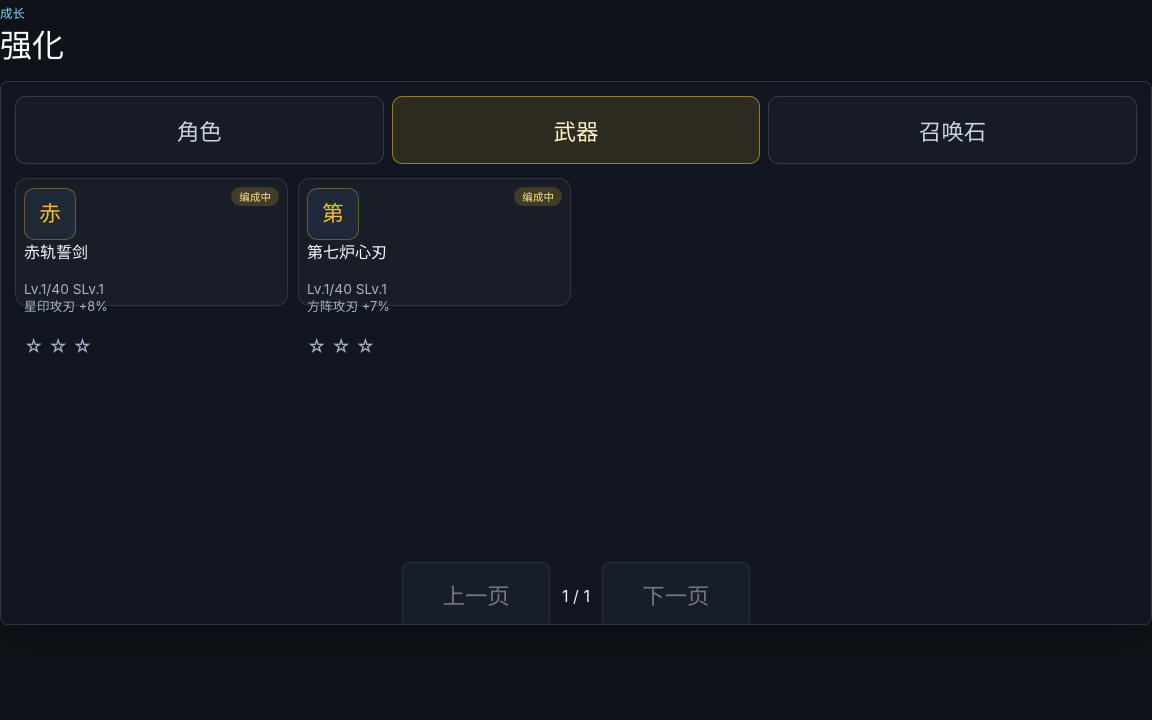
it: upgrade screen › opens action modal then skill upgrade modal with target select and preview
Step 1. Click the button with test id "weapon-card-weapon-red-rail-saber" → click(255, 197), box [15,178,288,306]
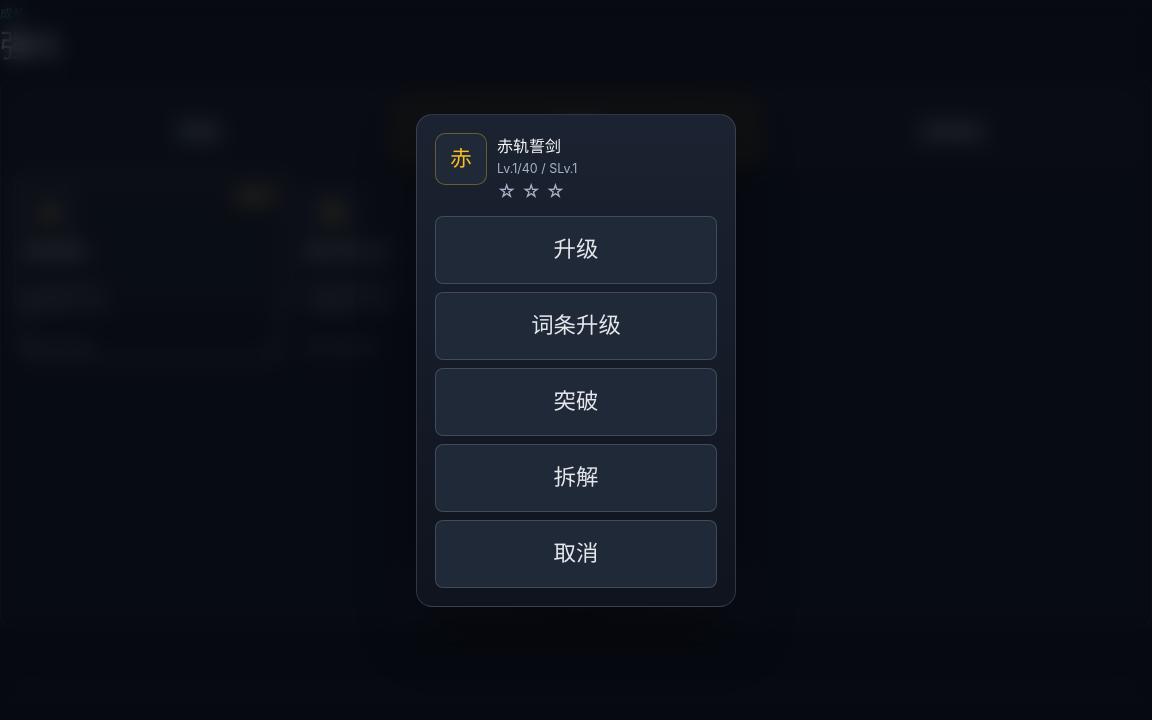
Expected: the element with test id "upgrade-action-modal" that starts with "赤轨誓剑" is shown
Step 2. Click the button with test id "action-词条升级" → click(576, 326), box [435,292,717,360]
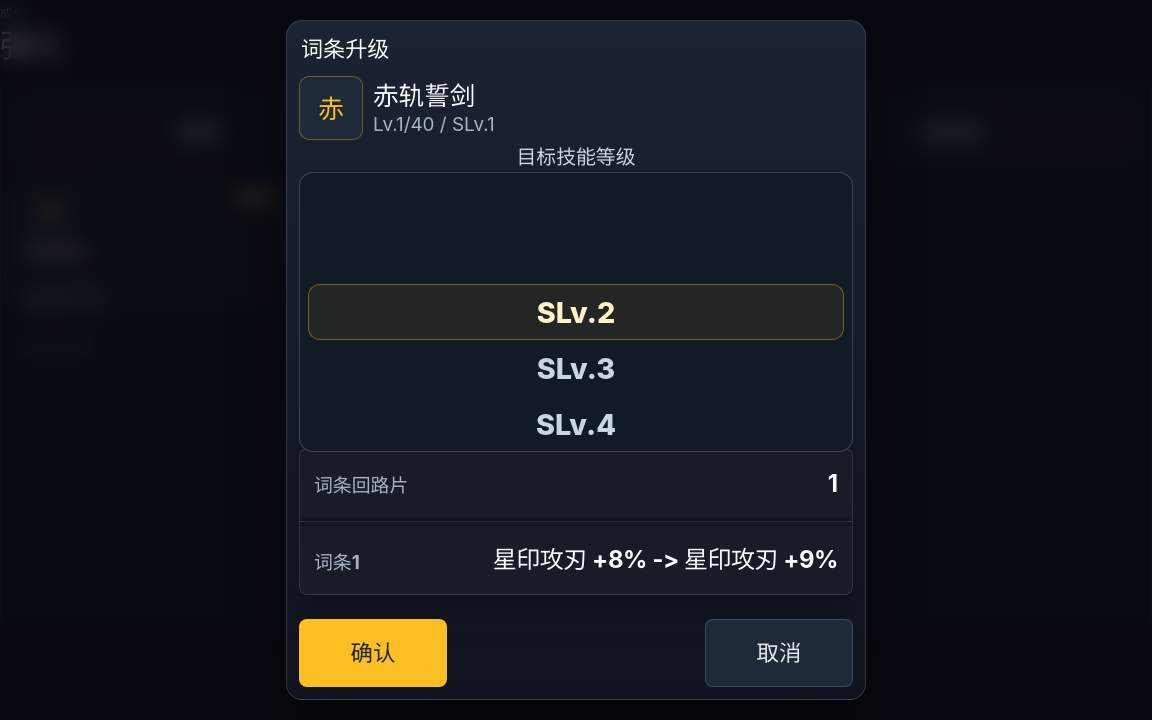
Expected: the element with test id "upgrade-confirm-dialog" is shown
Expected: the element with test id "upgrade-target-select" shows "SLv.2", [300,284,852,340]
Expected: the text "星印攻刃 +8% -> 星印攻刃 +9%" is shown, [493,545,838,574]
